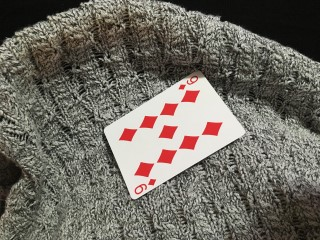NineOfDiamonds: (104, 70, 246, 199)
